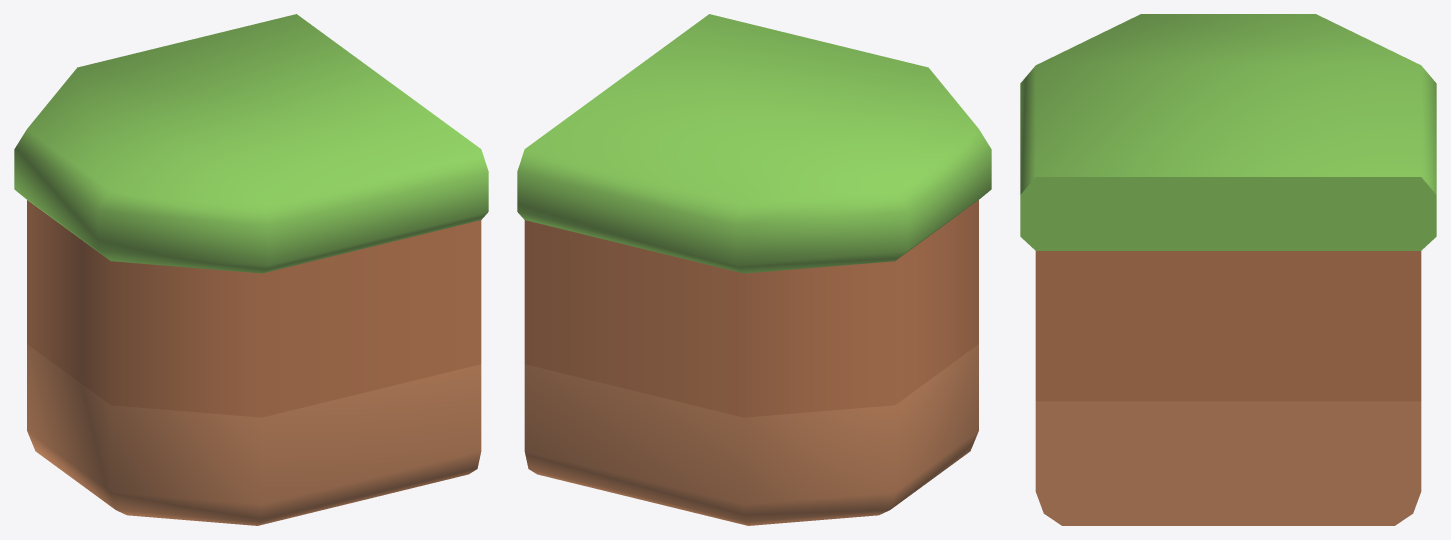
The model's file is 04_small_left.glb.
3 views of the same model, side by side, from view 1: azimuth 30°, elevation 25°; view 2: azimuth 150°, elevation 25°; view 3: azimuth 270°, elevation 25° (orthographic). The views are drawn at different scales.
Visible parts, largest first — view 1: 04_small_left; view 2: 04_small_left; view 3: 04_small_left.
Boxes of the visible parts, x1,y1,x2,y2 form: 04_small_left: [14, 14, 488, 525]; 04_small_left: [517, 14, 991, 525]; 04_small_left: [1020, 14, 1436, 525].
Bounding box in the file's own units: 0.52 × 0.4992 × 0.5398.
